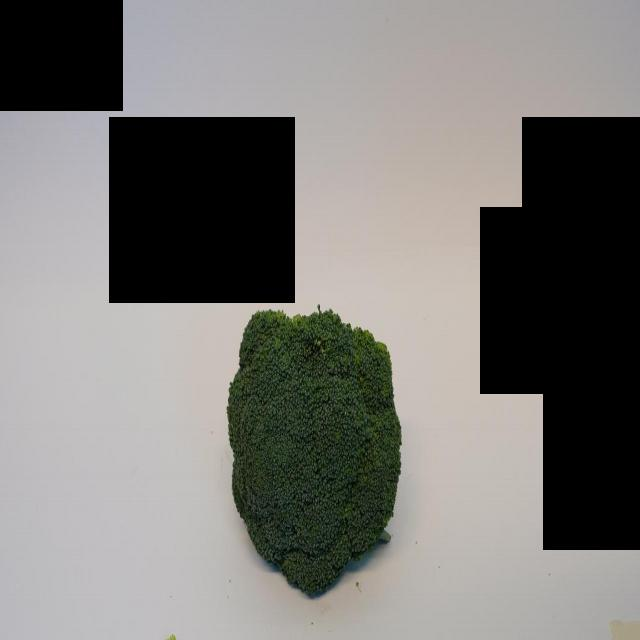broccoli: (225, 302, 406, 584)
